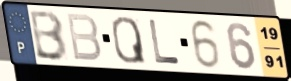6: (190, 18, 223, 71), (224, 21, 257, 71)
B: (29, 9, 70, 63), (64, 11, 104, 63)
L: (147, 17, 182, 66)
Q: (110, 15, 149, 66)
